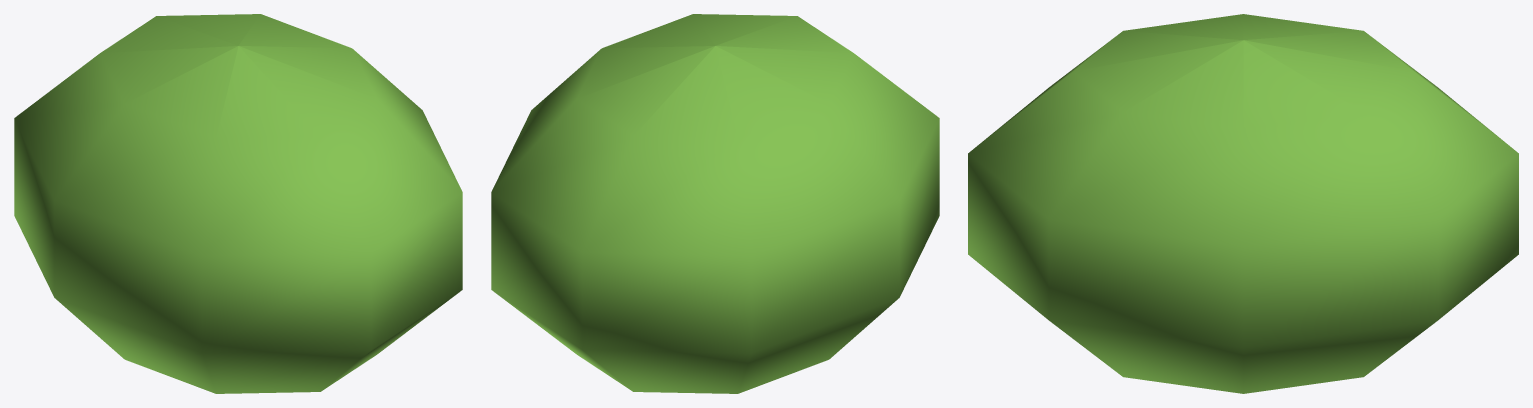
The model's file is fruit-watermelon-unripe-far.glb.
The picture shows the model from 3 angles, left to right: view 1: azimuth 30°, elevation 25°; view 2: azimuth 150°, elevation 25°; view 3: azimuth 270°, elevation 25°; orthographic projection. The views are drawn at different scales.
Parts seen in each view (by area): view 1: fruit-watermelon-unripe-far; view 2: fruit-watermelon-unripe-far; view 3: fruit-watermelon-unripe-far.
Boxes of the visible parts, x1,y1,x2,y2 form: fruit-watermelon-unripe-far: [14, 14, 462, 393]; fruit-watermelon-unripe-far: [491, 14, 939, 393]; fruit-watermelon-unripe-far: [968, 14, 1518, 393].
Bounding box in the file's own units: 1.05 × 0.858 × 1.31.
